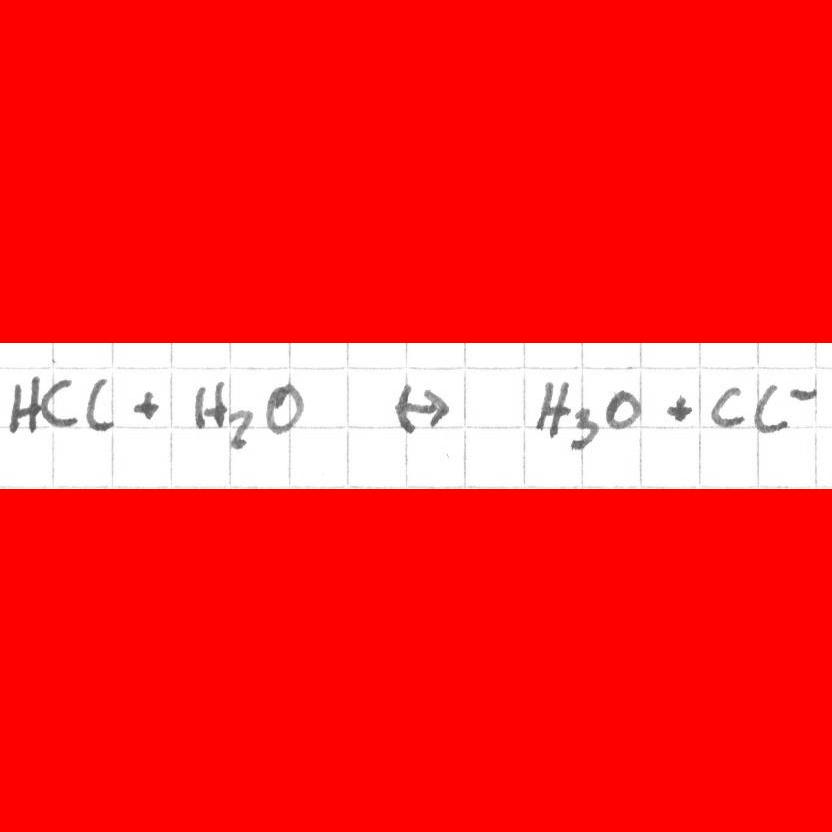Char: (387, 379, 455, 435), (262, 381, 305, 437), (533, 378, 571, 440), (7, 373, 42, 436), (40, 376, 81, 429), (602, 387, 645, 433), (188, 378, 226, 430), (752, 382, 787, 434), (83, 376, 115, 432), (707, 385, 747, 429), (226, 405, 257, 452), (572, 406, 598, 452), (129, 389, 161, 421), (663, 391, 694, 422), (787, 384, 820, 403)
